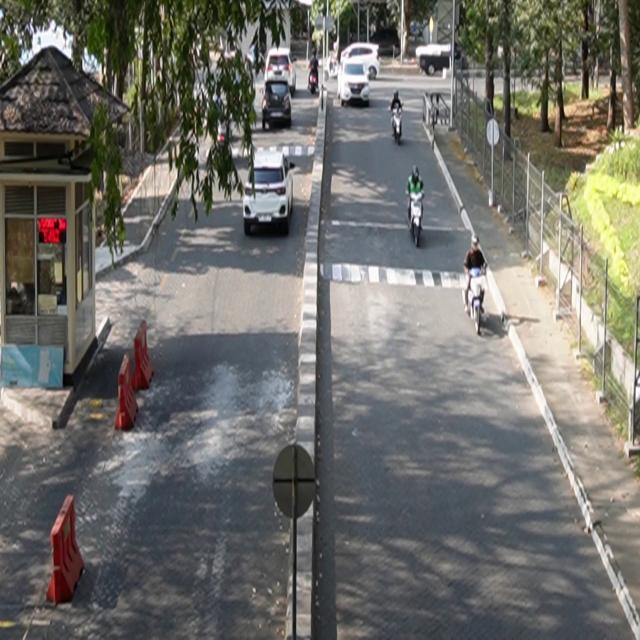car: (244, 148, 296, 236), (338, 59, 371, 108), (262, 80, 293, 131)
